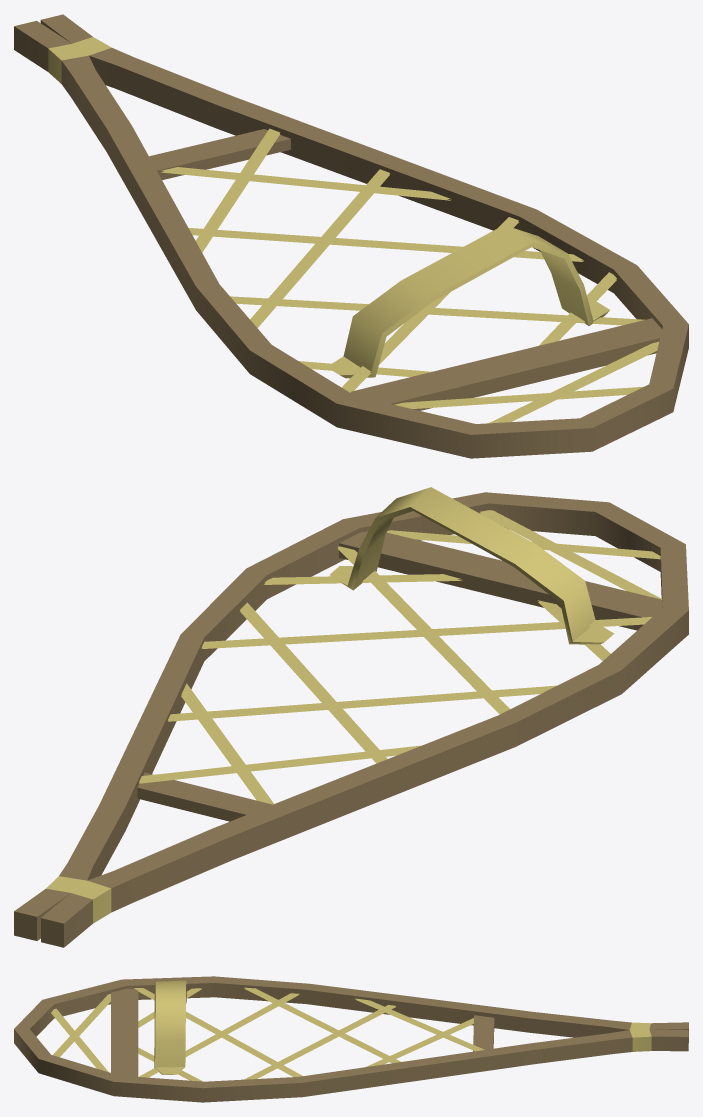
Rendered from arctic_snowshoe.fbx.
The picture shows the model from 3 angles, top to bottom: view 1: azimuth 30°, elevation 25°; view 2: azimuth 150°, elevation 25°; view 3: azimuth 270°, elevation 25°; orthographic projection. The views are drawn at different scales.
Visible parts, largest first — view 1: arctic_snowshoe; view 2: arctic_snowshoe; view 3: arctic_snowshoe.
Boxes of the visible parts, x1,y1,x2,y2 form: arctic_snowshoe: (14, 14, 688, 458); arctic_snowshoe: (14, 487, 688, 947); arctic_snowshoe: (14, 976, 688, 1102).
Size of the model in its own units: 0.2358 by 0.0656 by 0.6015.
